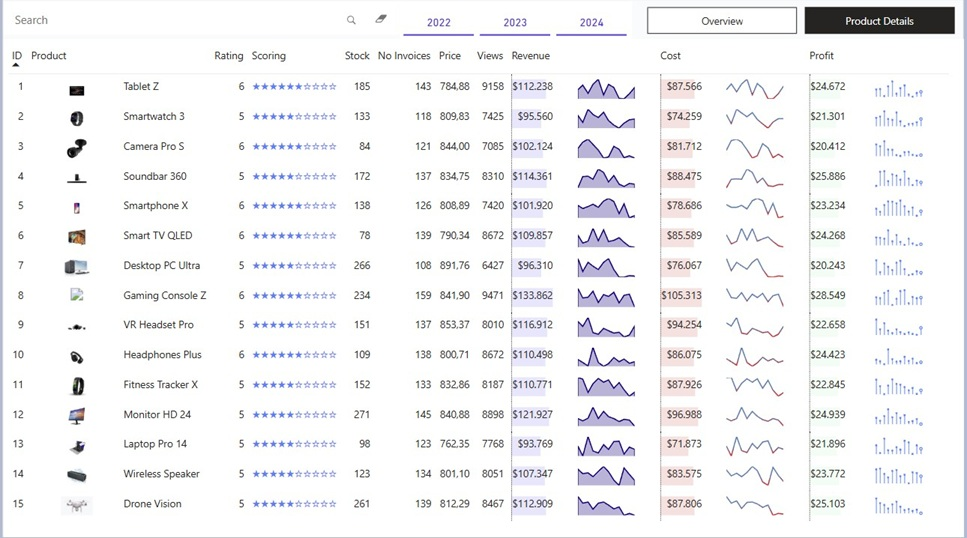

The dashboard page shown, as its layout file describes it:
{"tool":"powerbi","page":{"name":"Product Details","canvas":[1280,720],"ordinal":1},"visuals":[{"type":"tableEx","fields":{"Values":["dimProduct.Product ID","dimProduct.Img","dimProduct.Product","All Measures.Avg Rating","All Measures.Scoring","dimProduct.Stock Quantity","All Measures.No Invoices","Avg(factSalesData.Sales Amount (USD))","All Measures.Views","All Measures.Revenue","All Measures.Revenue Sparkline","All Measures.Cost"]},"box":[13.5,58.9,1257.7,652.8],"z":0},{"type":"advancedSlicerVisual","fields":{"Values":["Calendar.Year"]},"box":[532.5,9.8,304.3,50.3],"z":1000},{"type":"pageNavigator","box":[856.4,17.2,403.7,35.6],"z":2000},{"type":"textFilter25A4896A83E0487089E2B90C9AE57C8A","fields":{"field":["dimProduct.Product"]},"box":[13.5,9.8,519,42.9],"z":3000}]}

Visuals, with their boxes in screenshot pixels (x1, y1, x2, y2), scaled from the page's 1280x720 canvas onto the 967x538 screenshot:
tableEx - dimProduct.Product ID x dimProduct.Img: box(10, 44, 960, 532)
advancedSlicerVisual - Calendar.Year: box(402, 7, 632, 45)
pageNavigator: box(647, 13, 952, 39)
textFilter25A4896A83E0487089E2B90C9AE57C8A - dimProduct.Product: box(10, 7, 402, 39)
